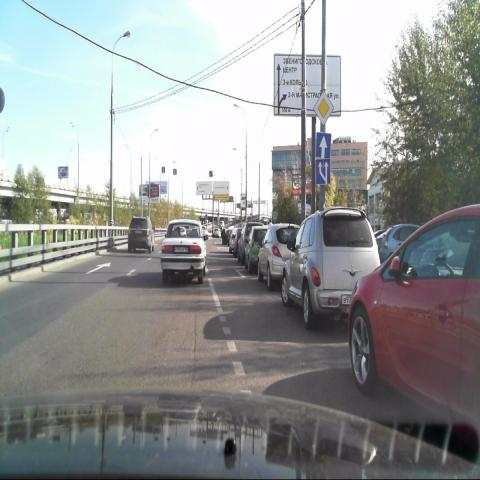5_5: (314, 128, 332, 158)
